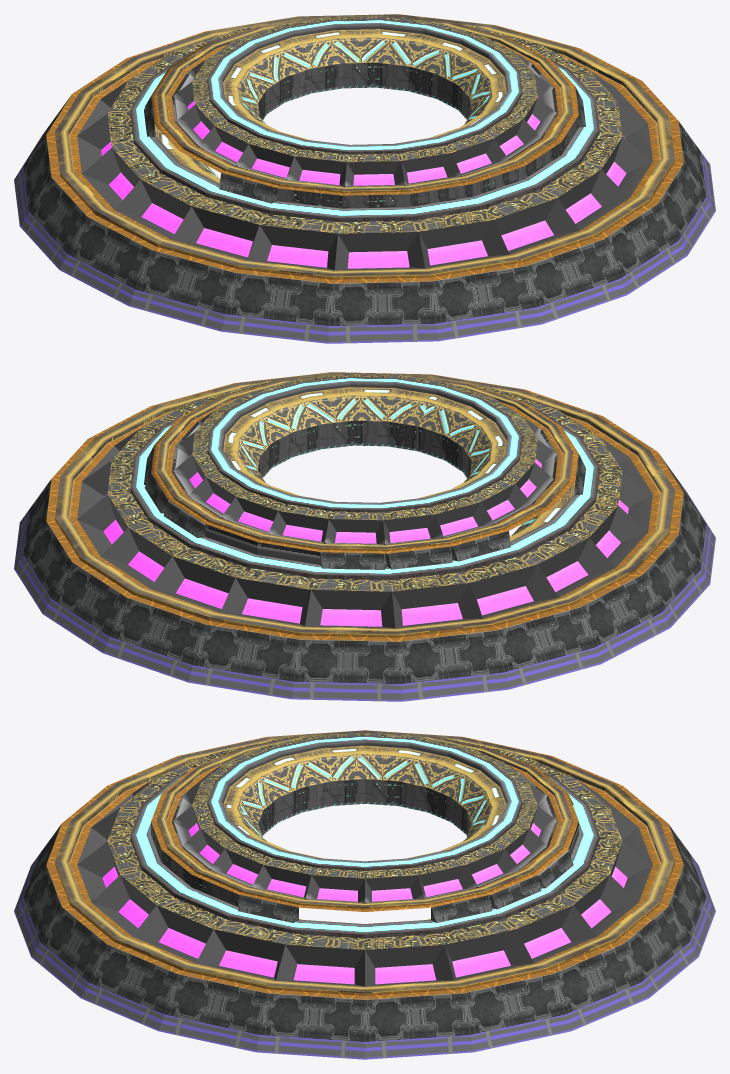
File: Top_Ring.glb
3 renders of one model, top to bottom at view 1: azimuth 30°, elevation 25°; view 2: azimuth 150°, elevation 25°; view 3: azimuth 270°, elevation 25°, orthographic.
Visible parts, largest first — view 1: Top_Ring; view 2: Top_Ring; view 3: Top_Ring.
Boxes of the visible parts, x1=… form: Top_Ring: x1=14, y1=14, x2=715, y2=343; Top_Ring: x1=14, y1=372, x2=715, y2=701; Top_Ring: x1=14, y1=730, x2=715, y2=1059.
Size of the model in its own units: 4.06 by 0.7025 by 4.06.
Materials: 1 (1 with a texture image).
